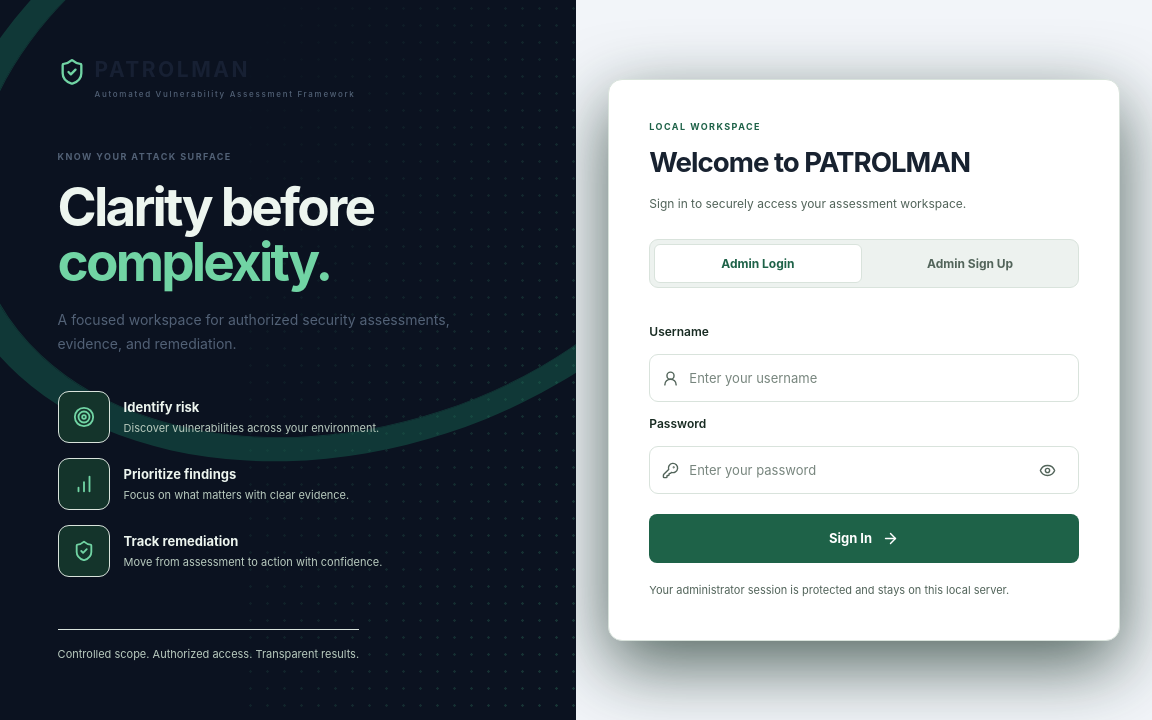
Test: shows and hides the password without storing credentials in browser storage
The image size is (1152, 720).
In the field labelled "Username": (878, 378) [689,357,1066,400], type "local-admin"
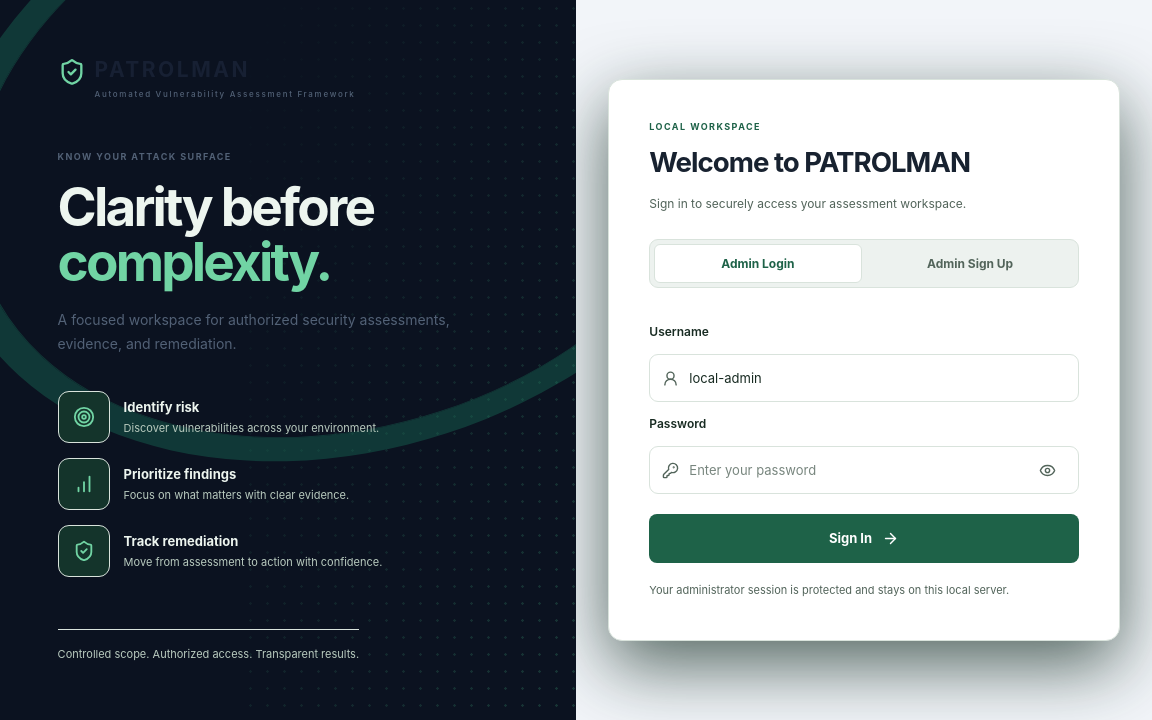
In the password field labelled "Password": (856, 470) [689,449,1024,492], type "synthetic-password"
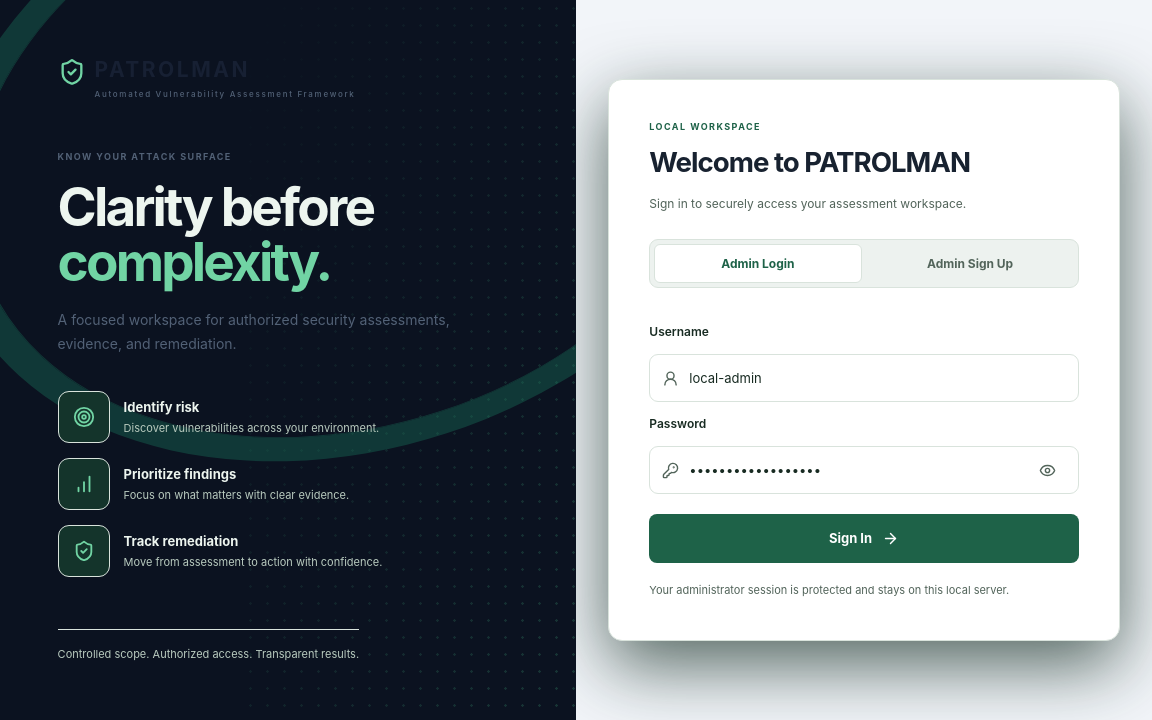
Click the button named "Show password": (1047, 470) [1034,451,1061,489]
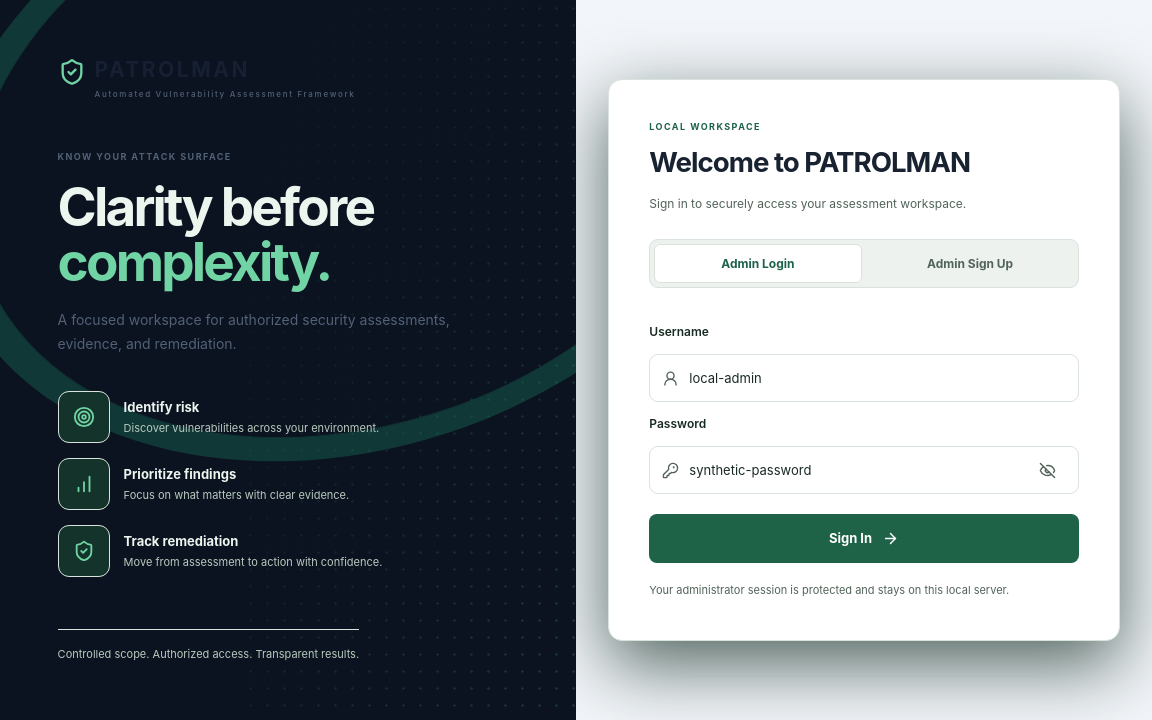
Expected: the field labelled "Password" shows its text, [689,449,1024,492]
Click the button named "Hide password": (1047, 470) [1034,451,1061,489]
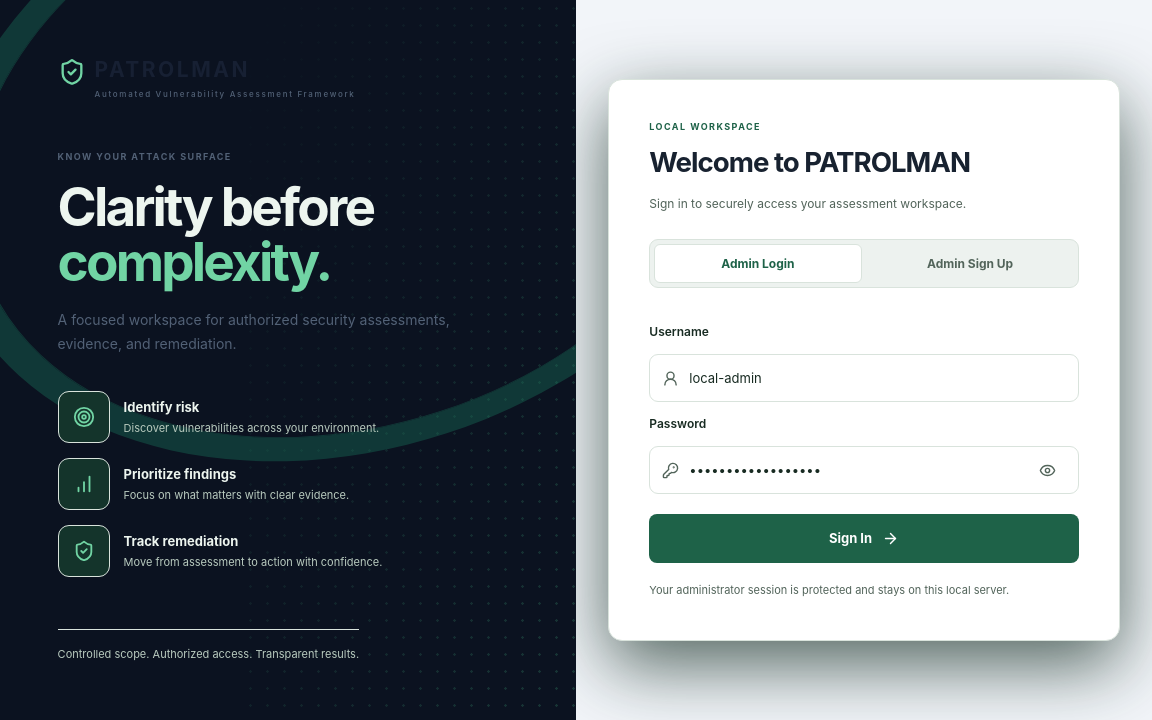
Expected: the password field labelled "Password" hides its text, [689,449,1024,492]
